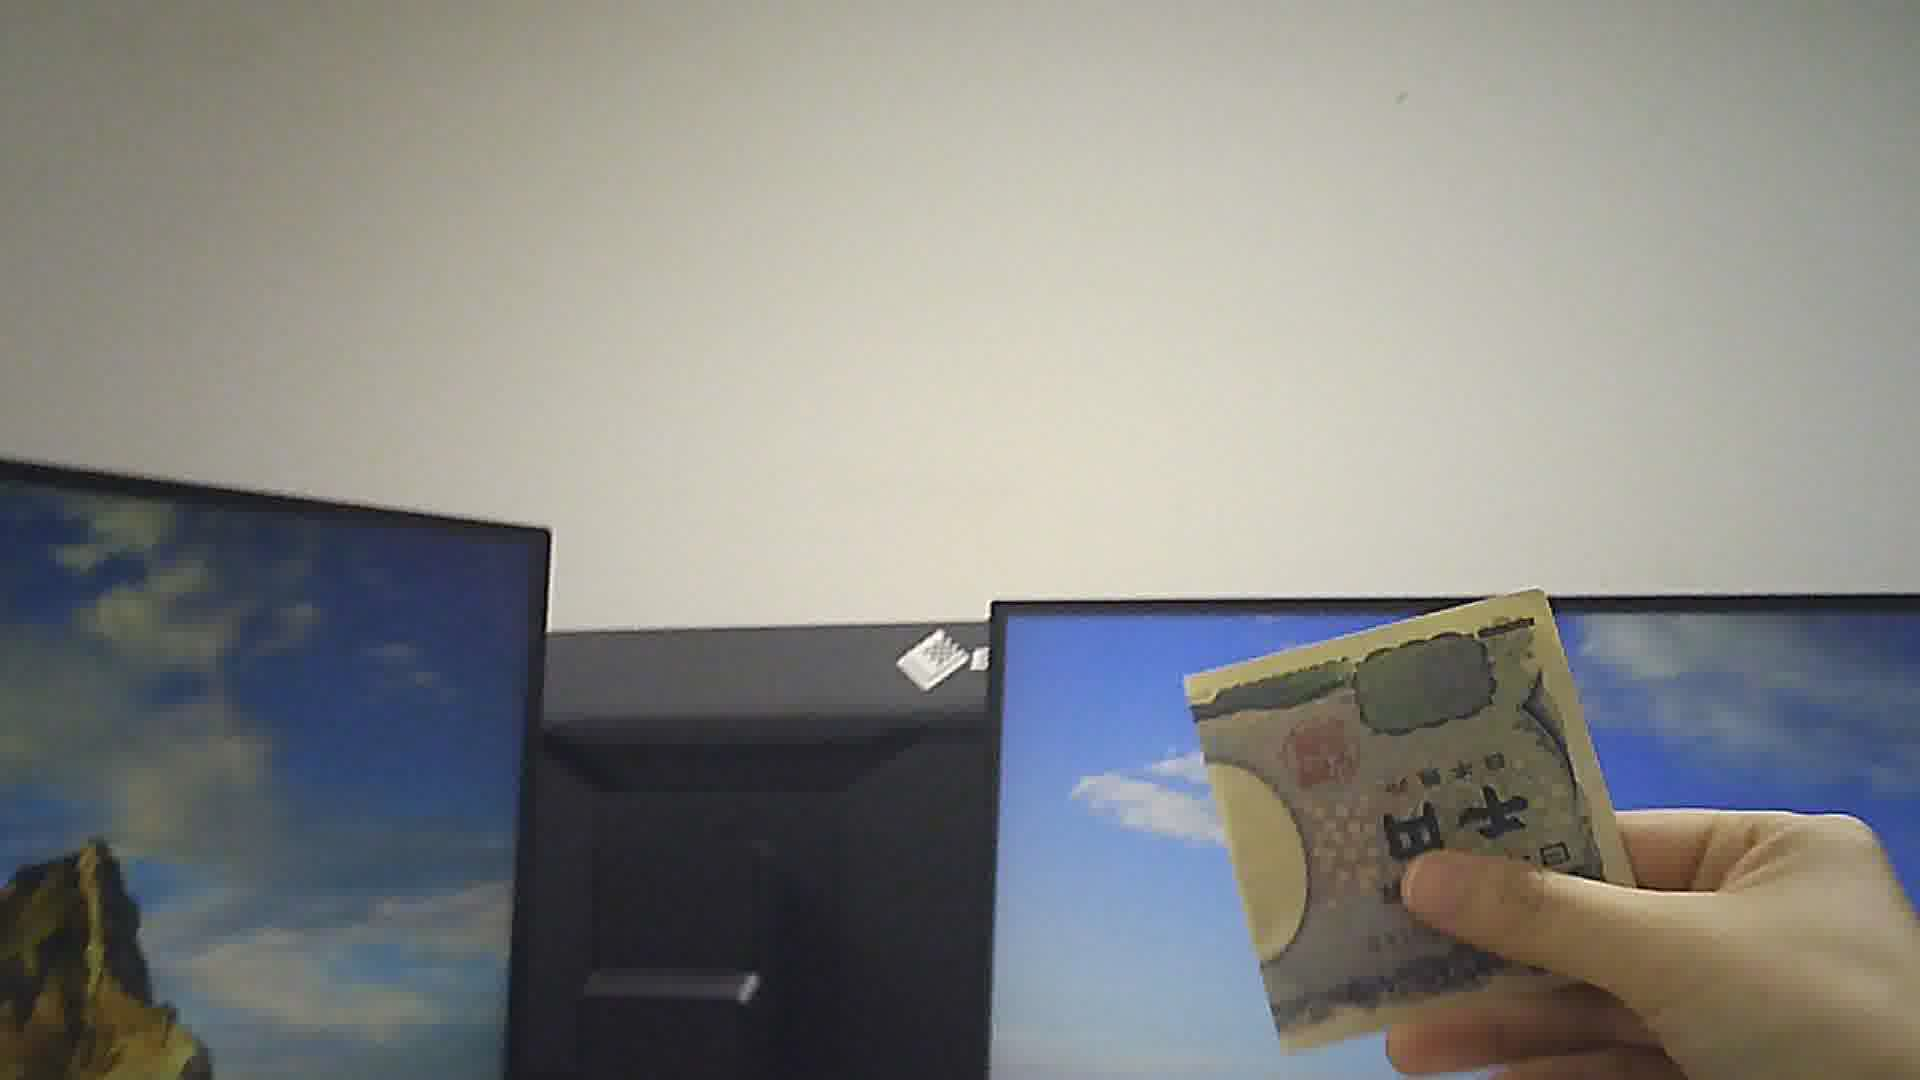1,000 Yen: (1175, 582, 1656, 1029)
